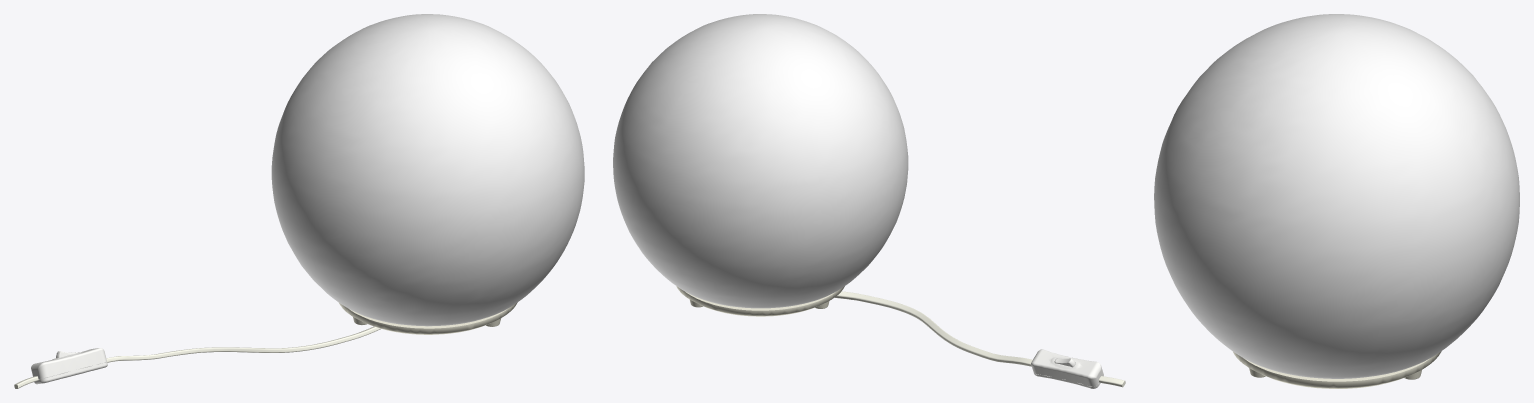
File: fado_table_lamp_white.glb
3 renders of one model, left to right at view 1: azimuth 30°, elevation 25°; view 2: azimuth 150°, elevation 25°; view 3: azimuth 270°, elevation 25°, orthographic. The views are drawn at different scales.
Parts seen in each view (by area): view 1: model_PQPM1000; view 2: model_PQPM1000; view 3: model_PQPM1000.
Boxes of the visible parts, box(x1,y1,x2,y2) form: model_PQPM1000: box(14, 14, 584, 388); model_PQPM1000: box(613, 14, 1125, 388); model_PQPM1000: box(1154, 14, 1519, 388).
Size of the model in its own units: 0.4728 by 0.2365 by 0.24.
1 material, 1 textured.
